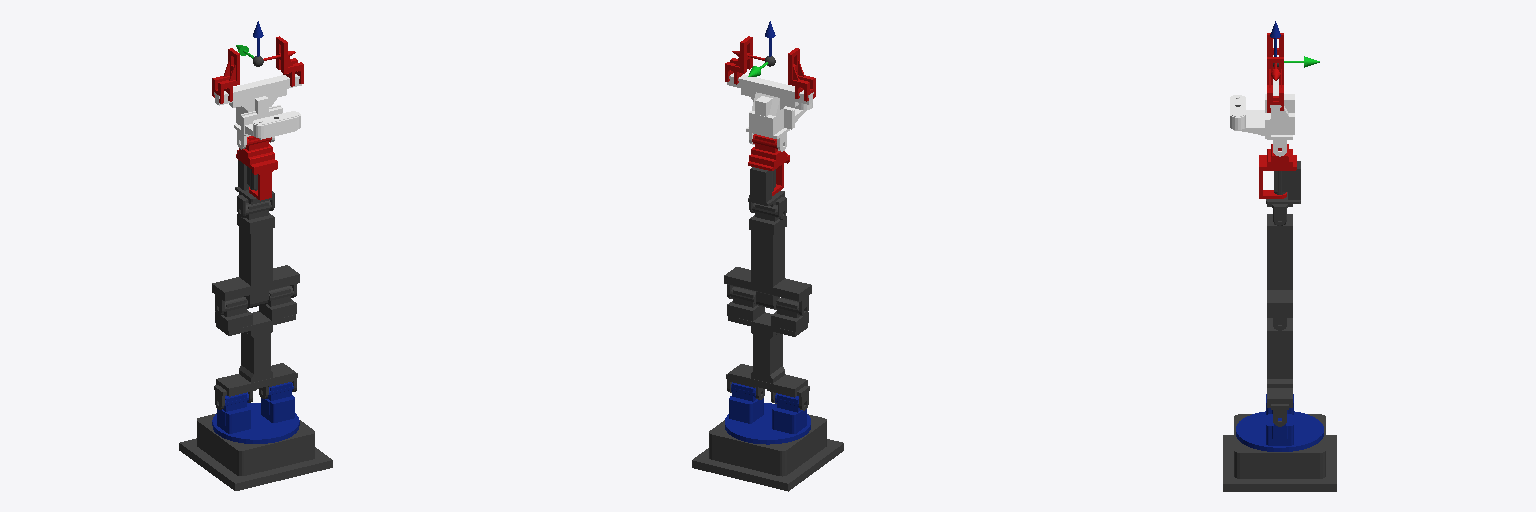
The robot description file, URDF, robot "robot":
<?xml version="1.0" ?>
<!-- =================================================================================== -->
<!-- |    This document was autogenerated by xacro from robot.urdf.xacro               | -->
<!-- |    EDITING THIS FILE BY HAND IS NOT RECOMMENDED                                 | -->
<!-- =================================================================================== -->
<robot name="robot">
  
  <material name="white">
    <color rgba="1 1 1 1"/>
  </material>

  <material name="black">
    <color rgba="0.3 0.3 0.3 1"/>
  </material>
  
  <material name="blue">
    <color rgba="0.1 0.2 0.6 1"/>
  </material>
  
  <material name="red">
    <color rgba="0.8 0.1 0.1 1"/>
  </material>
  
  <material name="green">
    <color rgba="0.1 0.8 0.2 1"/>
  </material>
  
  <link name="world"/>
  
  <link name="base_link">
    <inertial>
      <origin rpy="0 0 0" xyz="-1.0022E-17 0.031146 1.6931E-17"/>
      <mass value="1.7941"/>
      <inertia ixx="0.0048349" ixy="3.0467E-20" ixz="1.8103E-18" iyy="0.0083635" iyz="8.3712E-19" izz="0.0048349"/>
    </inertial>
    <visual>
      <origin rpy="0 0 0" xyz="0 0 0"/>
      <geometry>
        <mesh filename="meshes/base_link.stl"/>
      </geometry>
      <material name="black">
      </material>
    </visual>
    <collision>
      <origin rpy="0 0 0" xyz="0 0 0"/>
      <geometry>
        <mesh filename="meshes/base_link.stl"/>
      </geometry>
    </collision>
  </link>
  
  <link name="link1">
    <inertial>
      <origin rpy="0 0 0" xyz="-0.00033867 0.0 0.04069188"/>
      <mass value="0.26598862"/>
      <inertia ixx="0.00069223" ixy="0.0" ixz="-0.00000598" iyy="0.00112777" iyz="0.0" izz="0.00066577"/>
    </inertial>
    <visual>
      <origin rpy="0 0 0" xyz="0 0 0"/>
      <geometry>
        <mesh filename="meshes/link_1.stl"/>
      </geometry>
      <material name="blue">
      </material>
    </visual>
    <collision>
      <origin rpy="0 0 0" xyz="0 0 0"/>
      <geometry>
        <mesh filename="meshes/link_1.stl"/>
      </geometry>
    </collision>
  </link>
  
  <link name="link2">
    <inertial>
      <origin rpy="0 0 0" xyz="0.00047806 0.0 0.12861482"/>
      <mass value="0.29648615"/>
      <inertia ixx="0.00610192" ixy="0.0" ixz="0.00001654" iyy="0.00662316" iyz="0.00000002" izz="0.00058255"/>
    </inertial>
    <visual>
      <origin rpy="0 0 0" xyz="0 0 0"/>
      <geometry>
        <mesh filename="meshes/link_2.stl"/>
      </geometry>
      <material name="black">
      </material>
    </visual>
    <collision>
      <origin rpy="0 0 0" xyz="0 0 0"/>
      <geometry>
        <mesh filename="meshes/link_2.stl"/>
      </geometry>
    </collision>
  </link>

  <link name="link3">
    <inertial>
      <origin rpy="0 0 0" xyz="-0.00053036 0.0 0.10618762"/>
      <mass value="0.18197777"/>
      <inertia ixx="0.00288076" ixy="0.0" ixz="-0.00000804" iyy="0.00301111" iyz="0.0" izz="0.00016902"/>
    </inertial>
    <visual>
      <origin rpy="0 0 0" xyz="0 0 0"/>
      <geometry>
        <mesh filename="meshes/link_3.stl"/>
      </geometry>
      <material name="black">
      </material>
    </visual>
    <collision>
      <origin rpy="0 0 0" xyz="0 0 0"/>
      <geometry>
        <mesh filename="meshes/link_3.stl"/>
      </geometry>
    </collision>
  </link>

  <link name="link4">
    <inertial>
      <origin rpy="0 0 0" xyz="-0.00023697 0.00957601 0.05302509"/>
      <mass value="0.10881011"/>
      <inertia ixx="0.00039796" ixy="0.0" ixz="0.0" iyy="0.00038409" iyz="0.00006328" izz="0.00004420"/>
    </inertial>
    <visual>
      <origin rpy="0 0 0" xyz="0 0 0"/>
      <geometry>
        <mesh filename="meshes/link_4.stl"/>
      </geometry>
      <material name="black">
      </material>
    </visual>
    <collision>
      <origin rpy="0 0 0" xyz="0 0 0"/>
      <geometry>
        <mesh filename="meshes/link_4.stl"/>
      </geometry>
    </collision>
  </link>

  <link name="link5">
    <inertial>
      <origin rpy="0 0 0" xyz="-0.00039819 -0.00306049 0.04570833"/>
      <mass value="0.11311685"/>
      <inertia ixx="0.00034785" ixy="0.0" ixz="-0.00000314" iyy="0.00035044" iyz="-0.00000105" izz="0.00003925"/>
    </inertial>
    <visual>
      <origin rpy="0 0 0" xyz="0 0 0"/>
      <geometry>
        <mesh filename="meshes/link_5.stl"/>
      </geometry>
      <material name="red">
      </material>
    </visual>
    <collision>
      <origin rpy="0 0 0" xyz="0 0 0"/>
      <geometry>
        <mesh filename="meshes/link_5.stl"/>
      </geometry>
    </collision>
  </link>
  
  <joint name="world_base" type="fixed">
    <parent link="world"/>
    <child link="base_link"/>
    <origin rpy="0 0 0" xyz="0 0 0"/>
  </joint>
  
  <joint name="joint1" type="revolute">
    <origin rpy="0 0 0" xyz="0 0 0.0592"/>
    <parent link="base_link"/>
    <child link="link1"/>
    <axis xyz="0 0 1"/>
    <limit effort="4.5" lower="-2.09" upper="2.09" velocity="5.82"/>
  </joint>
  
  <joint name="joint2" type="revolute">
    <origin rpy="0 0 0" xyz="0 0 0.0678"/>
    <parent link="link1"/>
    <child link="link2"/>
    <axis xyz="1 0 0"/>
    <limit effort="9.0" lower="-1.57" upper="1.57" velocity="5.82"/>
  </joint>
  
  <joint name="joint3" type="revolute">
    <origin rpy="0 0 0" xyz="0 0 0.185"/>
    <parent link="link2"/>
    <child link="link3"/>
    <axis xyz="1 0 0"/>
    <limit effort="9.0" lower="-1.57" upper="1.57" velocity="5.82"/>
  </joint>
  
  <joint name="joint4" type="revolute">
    <origin rpy="0 0 0" xyz="0 0 0.18"/>
    <parent link="link3"/>
    <child link="link4"/>
    <axis xyz="1 0 0"/>
    <limit effort="4.5" lower="-1.57" upper="1.57" velocity="5.82"/>
  </joint>
  
  <joint name="joint5" type="revolute">
    <origin rpy="0 0 0" xyz="0.0 0.0 0.065"/>
    <parent link="link4"/>
    <child link="link5"/>
    <axis xyz="0 0 1"/>
    <limit effort="4.5" lower="-1.57" upper="1.57" velocity="5.82"/>
  </joint>
  
  <joint name="joint6" type="revolute">
    <origin rpy="0 0 0" xyz="0 0 0.07"/>
    <parent link="link5"/>
    <child link="gripper_base_link"/>
    <axis xyz="1 0 0"/>
    <limit effort="4.5" lower="-1.57" upper="1.57" velocity="5.82"/>
  </joint>
  
  <link name="gripper_base_link">
    <inertial> 
      <origin rpy="0 0 0" xyz="-0.00010299 -0.02688450 0.06603903"/>
      <mass value="0.26325356"/>
      <inertia ixx="0.00176368" ixy="-0.00000086" ixz="0.00000594" iyy="0.00146563" iyz="-0.00049322" izz="0.00066230"/>
    </inertial> 
    <visual>
      <origin rpy="0 0 0" xyz="0 0 0"/>
      <geometry>
        <mesh filename="meshes/gripper_base_link.stl"/>
      </geometry>
      <material name="white">
      </material>
    </visual>
    <collision>
      <origin rpy="0 0 0" xyz="0 0 0"/>
      <geometry>
        <mesh filename="meshes/gripper_base_link.stl"/>
      </geometry>
    </collision>
  </link>
  
  <link name="gripper_left_finger_link">
    <inertial>
      <origin rpy="0 0 0" xyz="-0.04936121 -0.00165819 0.00790974"/>
      <mass value="0.01666"/>
      <inertia ixx="0.00000859" ixy="0.00000172" ixz="-0.00000330" iyy="0.00005127" iyz="0.00000067" izz="0.00004602"/>
    </inertial>
    <visual>
      <origin rpy="0 0 0" xyz="0 0 0"/>
      <geometry>
        <mesh filename="meshes/gripper_link_left.stl"/>
      </geometry>
      <material name="red">
      </material>
    </visual>
    <collision>
      <origin rpy="0 0 0" xyz="0 0 0"/>
      <geometry>
        <mesh filename="meshes/gripper_link_left.stl"/>
      </geometry>
    </collision>
  </link>
  
  <link name="gripper_right_finger_link">
    <inertial>
      <origin rpy="0 0 0" xyz="0.04936121 -0.00165819 0.00790974"/>
      <mass value="0.01666"/>
      <inertia ixx="0.00000859" ixy="-0.00000172" ixz="0.00000330" iyy="0.00005127" iyz="0.00000067" izz="0.00004602"/>
    </inertial>
    <visual>
      <origin rpy="0 0 0" xyz="0 0 0"/>
      <geometry>
        <mesh filename="meshes/gripper_link_right.stl"/>
      </geometry>
      <material name="red">
      </material>
    </visual>
    <collision>
      <origin rpy="0 0 0" xyz="0 0 0"/>
      <geometry>
        <mesh filename="meshes/gripper_link_right.stl"/>
      </geometry>
    </collision>
  </link>
  
  <link name="camera">
    <inertial>
      <origin rpy="0 0 0" xyz="0.0 0.0 -0.0005"/>
      <mass value="0.072"/>
      <inertia ixx="0.00000047" ixy="0.0" ixz="0.0" iyy="0.00000047" iyz="0.0" izz="0.00000090"/>
    </inertial>
    <visual>
      <origin rpy="0 0 0" xyz="0 0 0"/>
      <geometry>
        <mesh filename="meshes/camera.stl"/>
      </geometry>
      <material name="black">
      </material>
    </visual>
    <collision>
      <origin rpy="0 0 0" xyz="0 0 0"/>
      <geometry>
        <mesh filename="meshes/camera.stl"/>
      </geometry>
    </collision>
  </link>
  
  <link name="ee_ref_link">
    <inertial>
      <origin rpy="0 0 0" xyz="0 0 0"/>
      <mass value="0.0001"/>
      <inertia ixx="0.000000001" ixy="0" ixz="0" iyy="0.000000001" iyz="0" izz="0.000000001"/>
    </inertial>
    <visual>
      <geometry>
        <sphere radius="0.01"/>
      </geometry>
      <material name="black"/>
    </visual>
  </link>

  <!-- X axis (red) -->
  <link name="ee_axis_x">
    <inertial>
      <origin rpy="0 0 0" xyz="0 0 0"/>
      <mass value="0.00001"/>
      <inertia ixx="0.000000001" ixy="0" ixz="0" iyy="0.000000001" iyz="0" izz="0.000000001"/>
    </inertial>
    <visual>
      <origin rpy="0 0 0" xyz="0 0 0"/>
      <geometry>
        <mesh filename="meshes/axis_x.stl"/>
      </geometry>
      <material name="red">
      </material>
    </visual>
  </link>

  <!-- Y axis (green) -->
  <link name="ee_axis_y">
    <inertial>
      <origin rpy="0 0 0" xyz="0 0 0"/>
      <mass value="0.00001"/>
      <inertia ixx="0.000000001" ixy="0" ixz="0" iyy="0.000000001" iyz="0" izz="0.000000001"/>
    </inertial>
    <visual>
      <origin rpy="0 0 0" xyz="0 0 0"/>
      <geometry>
        <mesh filename="meshes/axis_y.stl"/>
      </geometry>
      <material name="green">
      </material>
    </visual>
  </link>

  <!-- Z axis (blue) -->
  <link name="ee_axis_z">
    <inertial>
      <origin rpy="0 0 0" xyz="0 0 0"/>
      <mass value="0.00001"/>
      <inertia ixx="0.000000001" ixy="0" ixz="0" iyy="0.000000001" iyz="0" izz="0.000000001"/>
    </inertial>
    <visual>
      <origin rpy="0 0 0" xyz="0 0 0"/>
      <geometry>
        <mesh filename="meshes/axis_z.stl"/>
      </geometry>
      <material name="blue">
      </material>
    </visual>
  </link>
  
  <joint name="gripper_left_finger_joint" type="prismatic">
    <origin rpy="0 0 0" xyz="0.0 -0.00758 0.111"/>
    <parent link="gripper_base_link"/>
    <child link="gripper_left_finger_link"/>
    <axis xyz="1 0 0"/>
    <limit effort="4.5" lower="0.0" upper="0.039" velocity="1"/>
  </joint>

  <joint name="gripper_right_finger_joint" type="prismatic">
    <origin rpy="0 0 0" xyz="0.0 -0.00758 0.111"/>
    <parent link="gripper_base_link"/>
    <child link="gripper_right_finger_link"/>
    <axis xyz="1 0 0"/>
    <mimic joint="gripper_left_finger_joint" multiplier="-1.0"/>
    <limit effort="4.5" lower="-0.039" upper="0.0" velocity="1"/>
  </joint>

  <joint name="camera" type="fixed">
    <origin rpy="0 0 0" xyz="0 -0.07367 0.07055"/>
    <parent link="gripper_base_link"/>
    <child link="camera"/>
  </joint>

  <joint name="ee_ref_joint" type="fixed">
    <parent link="gripper_base_link"/>
    <child link="ee_ref_link"/>
    <origin rpy="0 0 0" xyz="0 -0.00758 0.155"/>
  </joint>

  <joint name="ee_axis_x_joint" type="fixed">
    <parent link="ee_ref_link"/>
    <child link="ee_axis_x"/>
    <origin rpy="0 0 0" xyz="0 0 0"/>
  </joint>

  <joint name="ee_axis_y_joint" type="fixed">
    <parent link="ee_ref_link"/>
    <child link="ee_axis_y"/>
    <origin rpy="0 0 0" xyz="0 0 0"/>
  </joint>

  <joint name="ee_axis_z_joint" type="fixed">
    <parent link="ee_ref_link"/>
    <child link="ee_axis_z"/>
    <origin rpy="0 0 0" xyz="0 0 0"/>
  </joint>

</robot>

--- What the picture shows (computed from the rendered views, not written in the file) ---
Views: 3 orthographic renders of the robot side by side, from view 1: azimuth 30°, elevation 25°; view 2: azimuth 150°, elevation 25°; view 3: azimuth 270°, elevation 25°.
Robot: robot — 15 links, 14 joints (6 revolute, 2 prismatic, 6 fixed); root link world; default pose: every joint at zero.
Visible links, largest first — view 1: base_link, link2, link3, link1, gripper_base_link, link5, link4, gripper_left_finger_link, gripper_right_finger_link; view 2: base_link, link2, link3, link1, gripper_base_link, link5, link4, gripper_left_finger_link, gripper_right_finger_link; view 3: base_link, link1, link3, link2, gripper_base_link, link4, link5, gripper_right_finger_link.
Boxes of the visible links, bbox=[...] form: base_link: bbox=[179, 413, 332, 490]; link2: bbox=[214, 286, 297, 409]; link3: bbox=[212, 200, 299, 315]; link1: bbox=[212, 382, 299, 443]; gripper_base_link: bbox=[214, 74, 301, 149]; link5: bbox=[236, 136, 277, 200]; link4: bbox=[235, 160, 274, 217]; gripper_left_finger_link: bbox=[212, 48, 239, 103]; gripper_right_finger_link: bbox=[276, 36, 303, 86]; base_link: bbox=[692, 414, 843, 491]; link2: bbox=[726, 287, 809, 410]; link3: bbox=[724, 203, 811, 316]; link1: bbox=[725, 382, 810, 444]; gripper_base_link: bbox=[727, 73, 813, 151]; link5: bbox=[748, 134, 789, 195]; link4: bbox=[748, 167, 786, 219]; gripper_left_finger_link: bbox=[788, 48, 815, 101]; gripper_right_finger_link: bbox=[725, 36, 752, 84]; base_link: bbox=[1223, 414, 1336, 491]; link1: bbox=[1236, 394, 1323, 451]; link3: bbox=[1267, 214, 1292, 330]; link2: bbox=[1267, 311, 1292, 426]; gripper_base_link: bbox=[1230, 79, 1294, 156]; link4: bbox=[1266, 161, 1300, 225]; link5: bbox=[1259, 144, 1296, 198]; gripper_right_finger_link: bbox=[1267, 57, 1283, 112].
Bounding box of the posed robot: 0.2 × 0.2 × 0.862 m (x, y, z).
Meshes: 13 distinct files referenced, 13 mesh visuals loaded (13 binary STL).